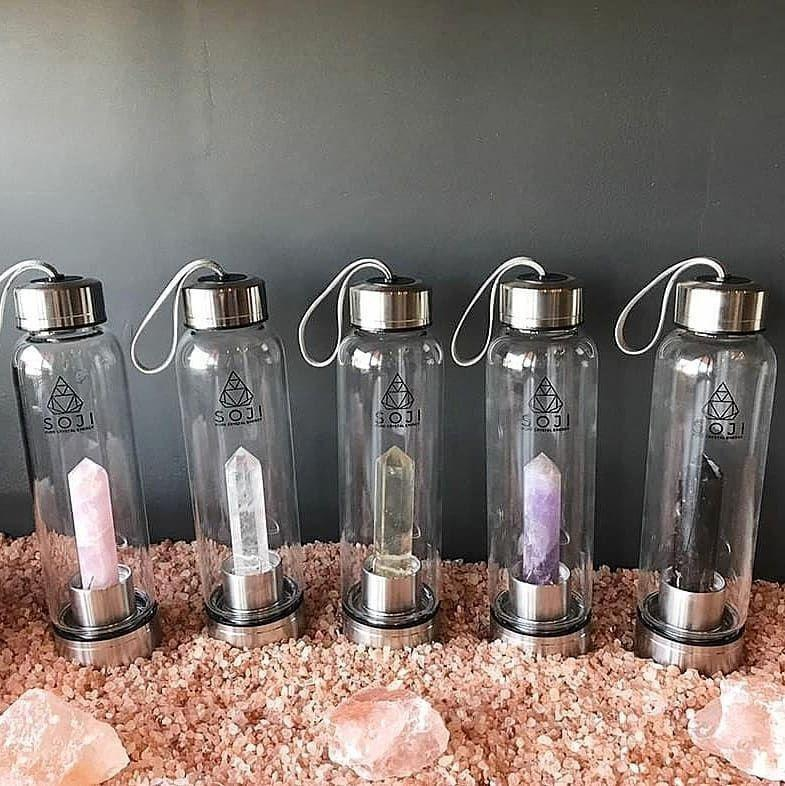gym bottle: (1, 262, 155, 664), (632, 265, 777, 668), (176, 269, 302, 645), (480, 264, 601, 653), (329, 268, 451, 652)
